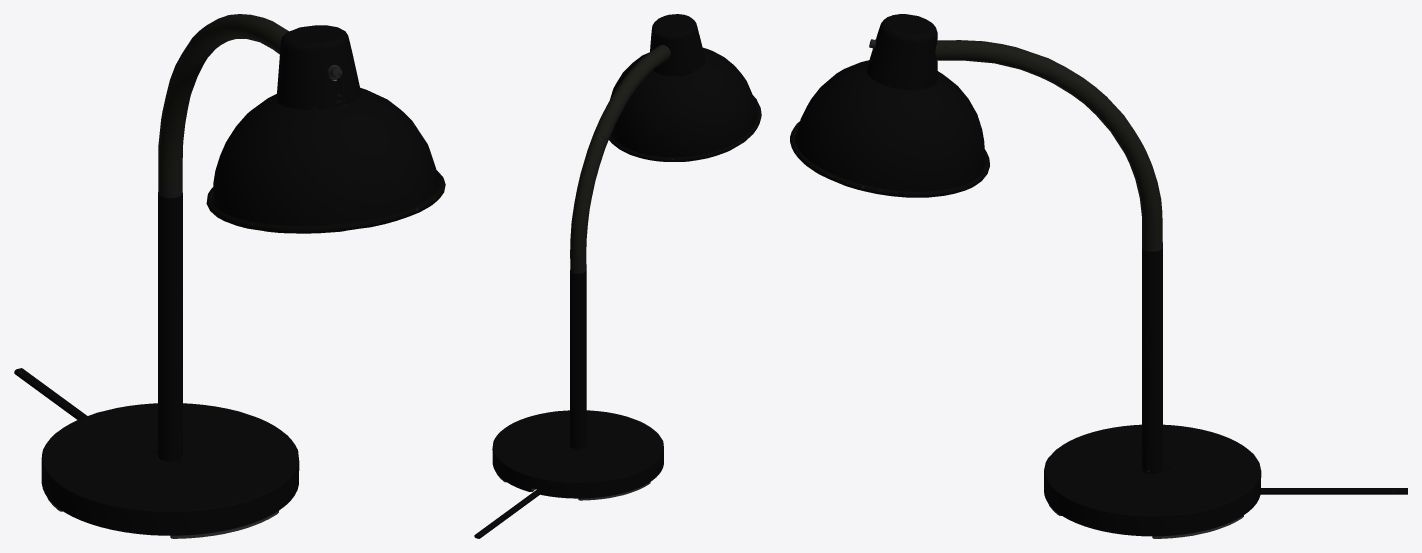
Rendered from skurup_work_lamp_black.glb.
3 views of the same model, side by side, from view 1: azimuth 30°, elevation 25°; view 2: azimuth 150°, elevation 25°; view 3: azimuth 270°, elevation 25° (orthographic). The views are drawn at different scales.
Parts seen in each view (by area): view 1: 80516778; view 2: 80516778; view 3: 80516778.
Part boxes in pixels (x1=…): 80516778: x1=14, y1=14, x2=445, y2=538; 80516778: x1=474, y1=14, x2=761, y2=538; 80516778: x1=790, y1=14, x2=1407, y2=538.
Size of the model in its own units: 0.17 by 0.408 by 0.4837.
1 material, 1 textured.
